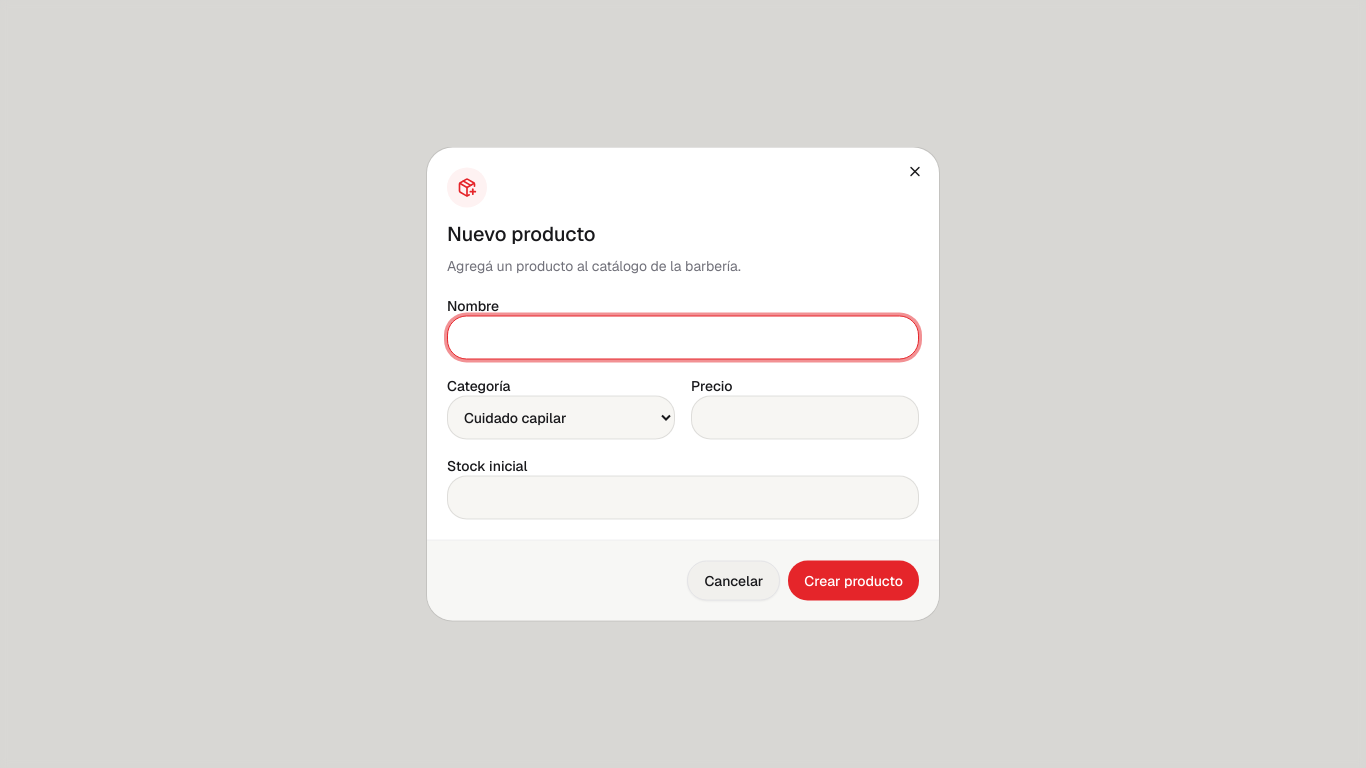
rejects a normalized duplicate product name
Type " hunter cream " into the field labelled "Nombre" at coordinates (683, 338), box left=447, top=316, right=919, bottom=360
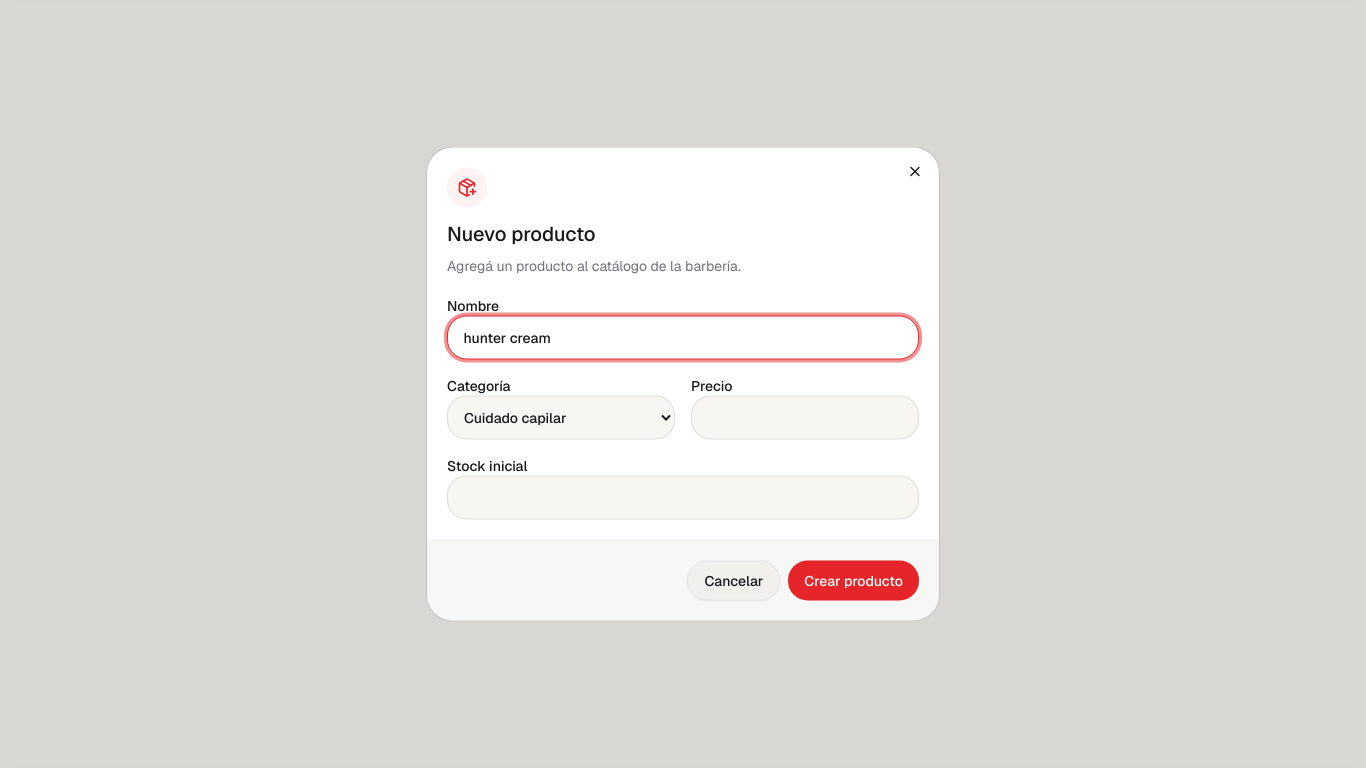
Type "10000" into the number field labelled "Precio" at coordinates (805, 418), box left=691, top=396, right=919, bottom=440
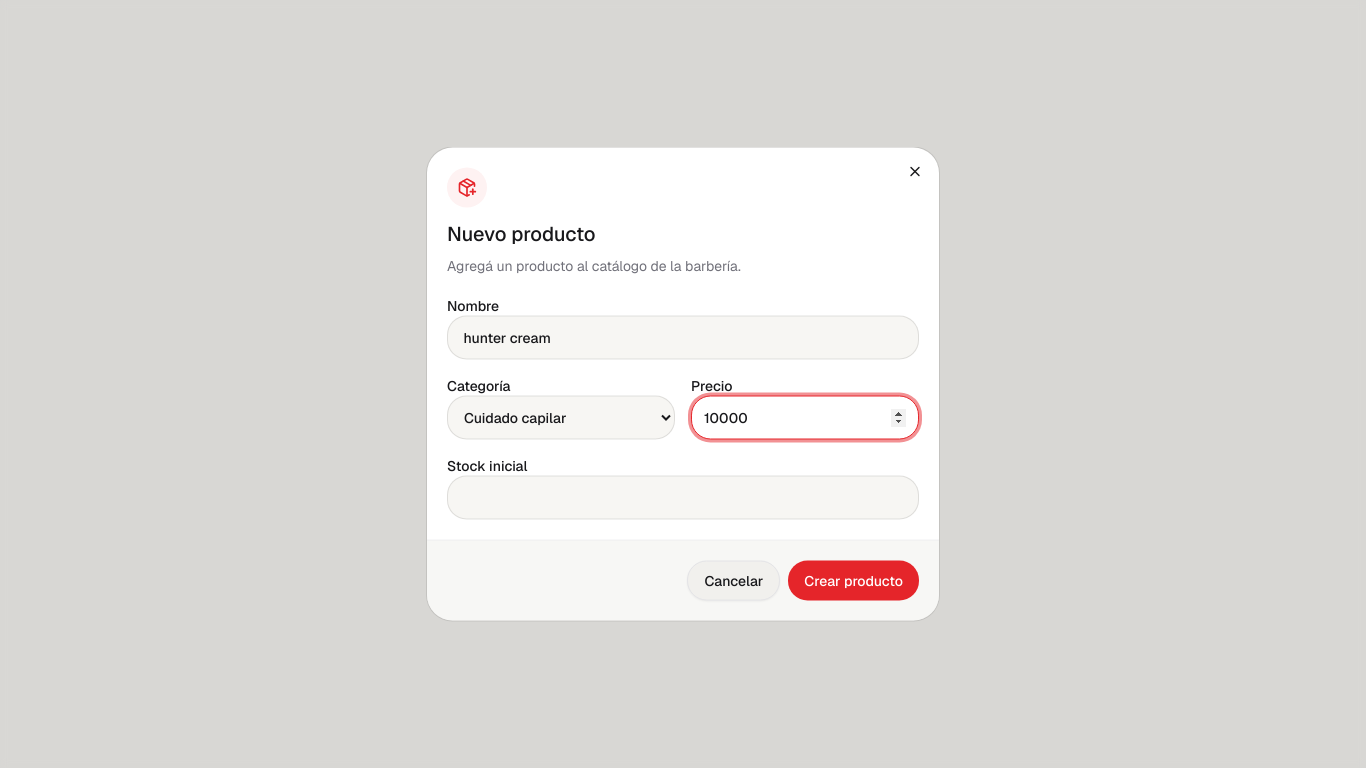
Type "1" into the number field labelled "Stock inicial" at coordinates (683, 498), box left=447, top=476, right=919, bottom=520
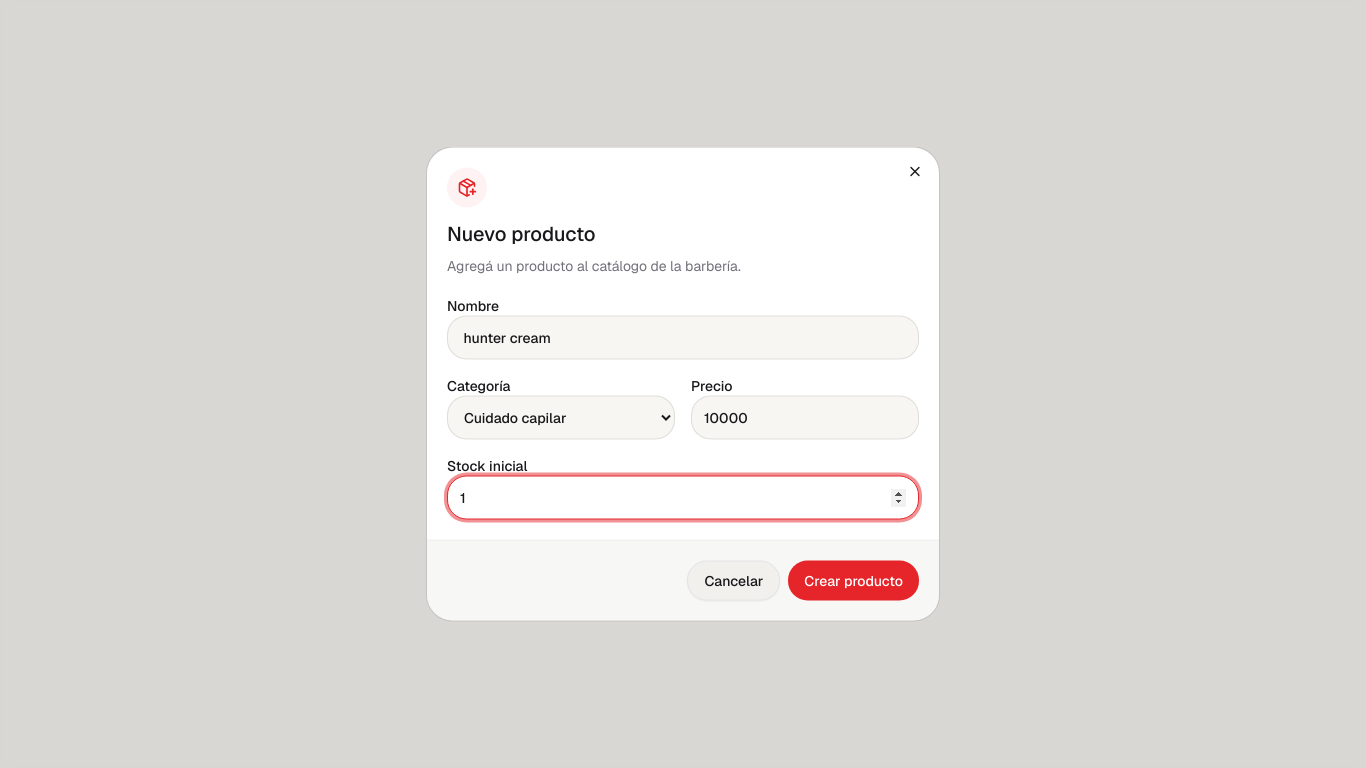
Click the button "Crear producto" at coordinates (854, 580), box left=788, top=560, right=919, bottom=600
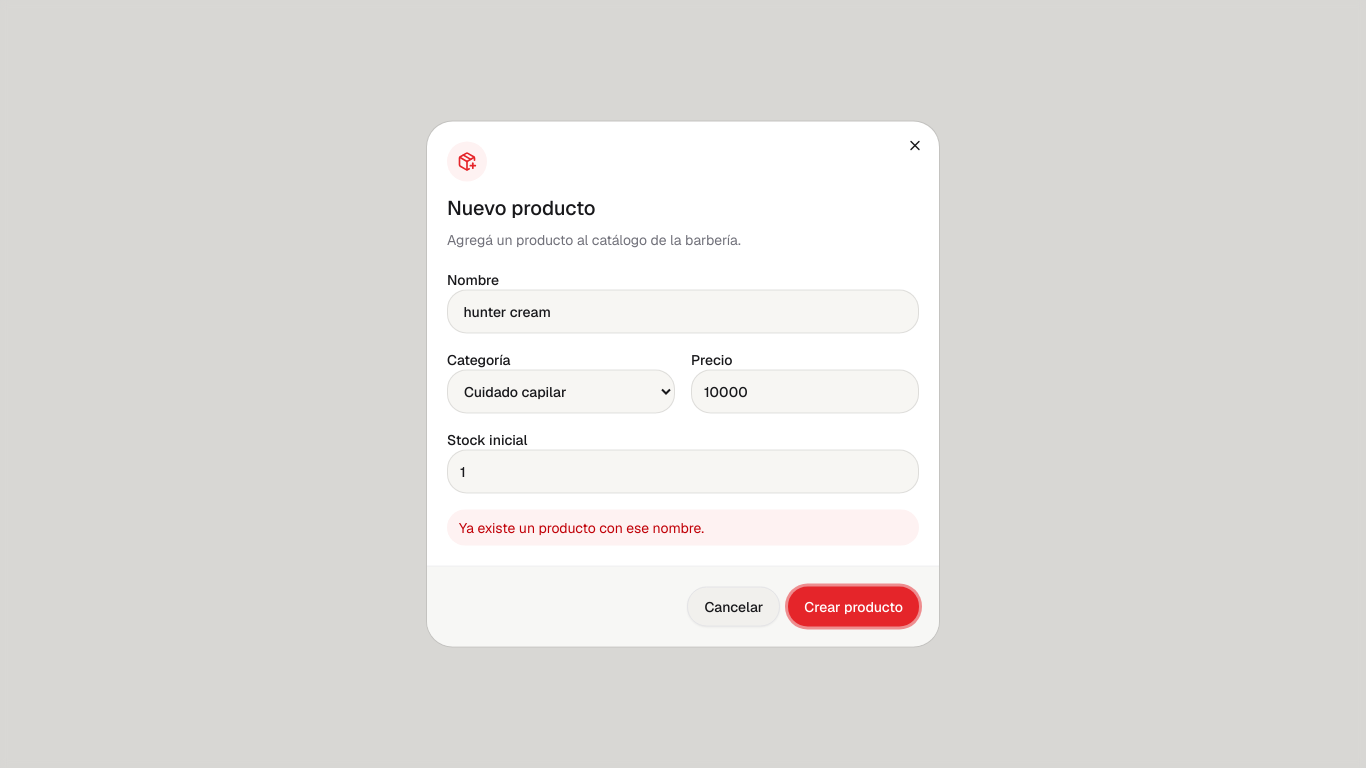
Check: the text "Ya existe un producto con ese nombre." is shown, box left=447, top=510, right=919, bottom=546
